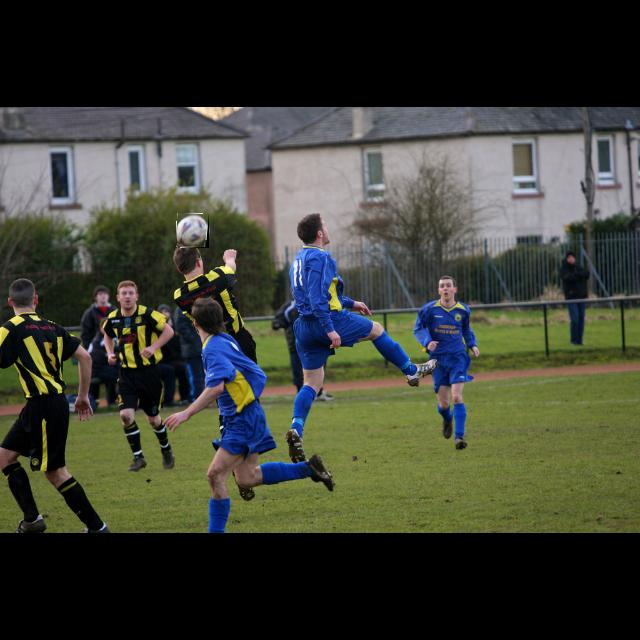Football: (177, 214, 209, 248)
